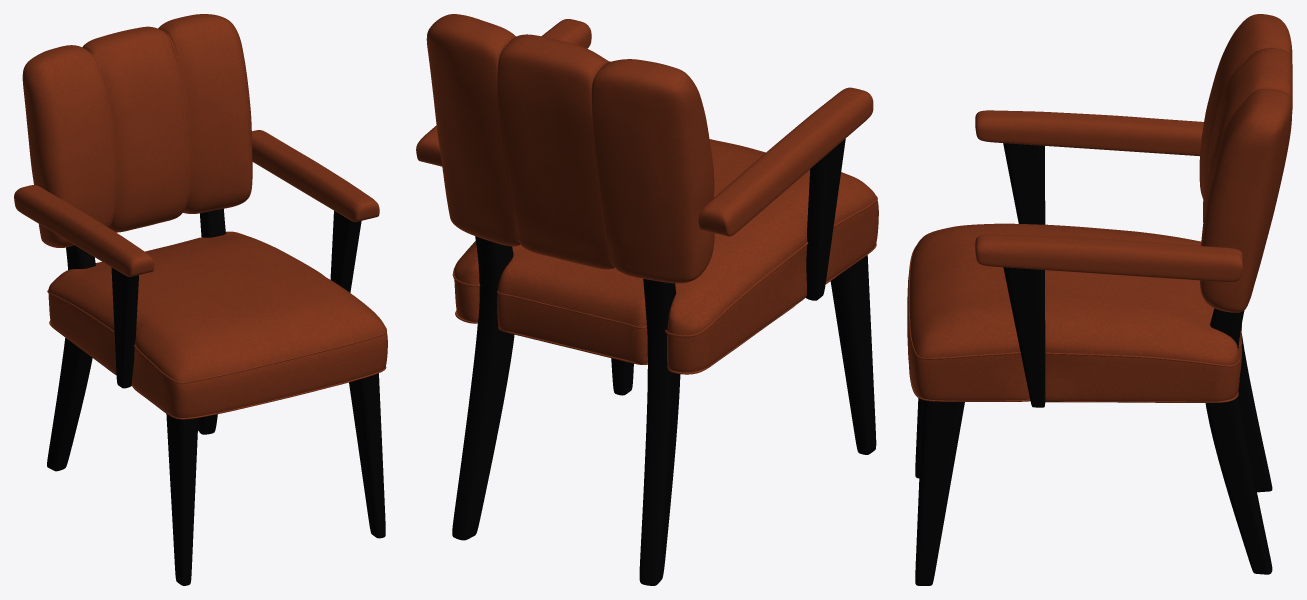
The model's file is Pierre-Chair-Larforma.glb.
3 views of the same model, side by side, from view 1: azimuth 30°, elevation 25°; view 2: azimuth 150°, elevation 25°; view 3: azimuth 270°, elevation 25° (orthographic). The views are drawn at different scales.
Parts seen in each view (by area): view 1: Pierre Armchair; view 2: Pierre Armchair; view 3: Pierre Armchair.
Boxes of the visible parts, x1=… form: Pierre Armchair: x1=14, y1=14, x2=387, y2=585; Pierre Armchair: x1=416, y1=14, x2=878, y2=585; Pierre Armchair: x1=907, y1=14, x2=1292, y2=585.
Bounding box in the file's own units: 0.572 × 0.9015 × 0.6729.
2 materials, 1 textured.
